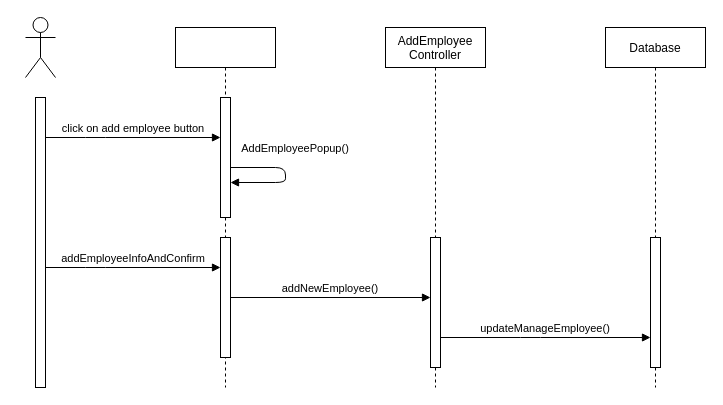
The diagram is 723 pixels wide and 405 high, and some of its shapes have lost their labels. Each missing label, with the centre of its shape:
ManageEmployee View: (x=225, y=207)
Manager: (x=40, y=47)
